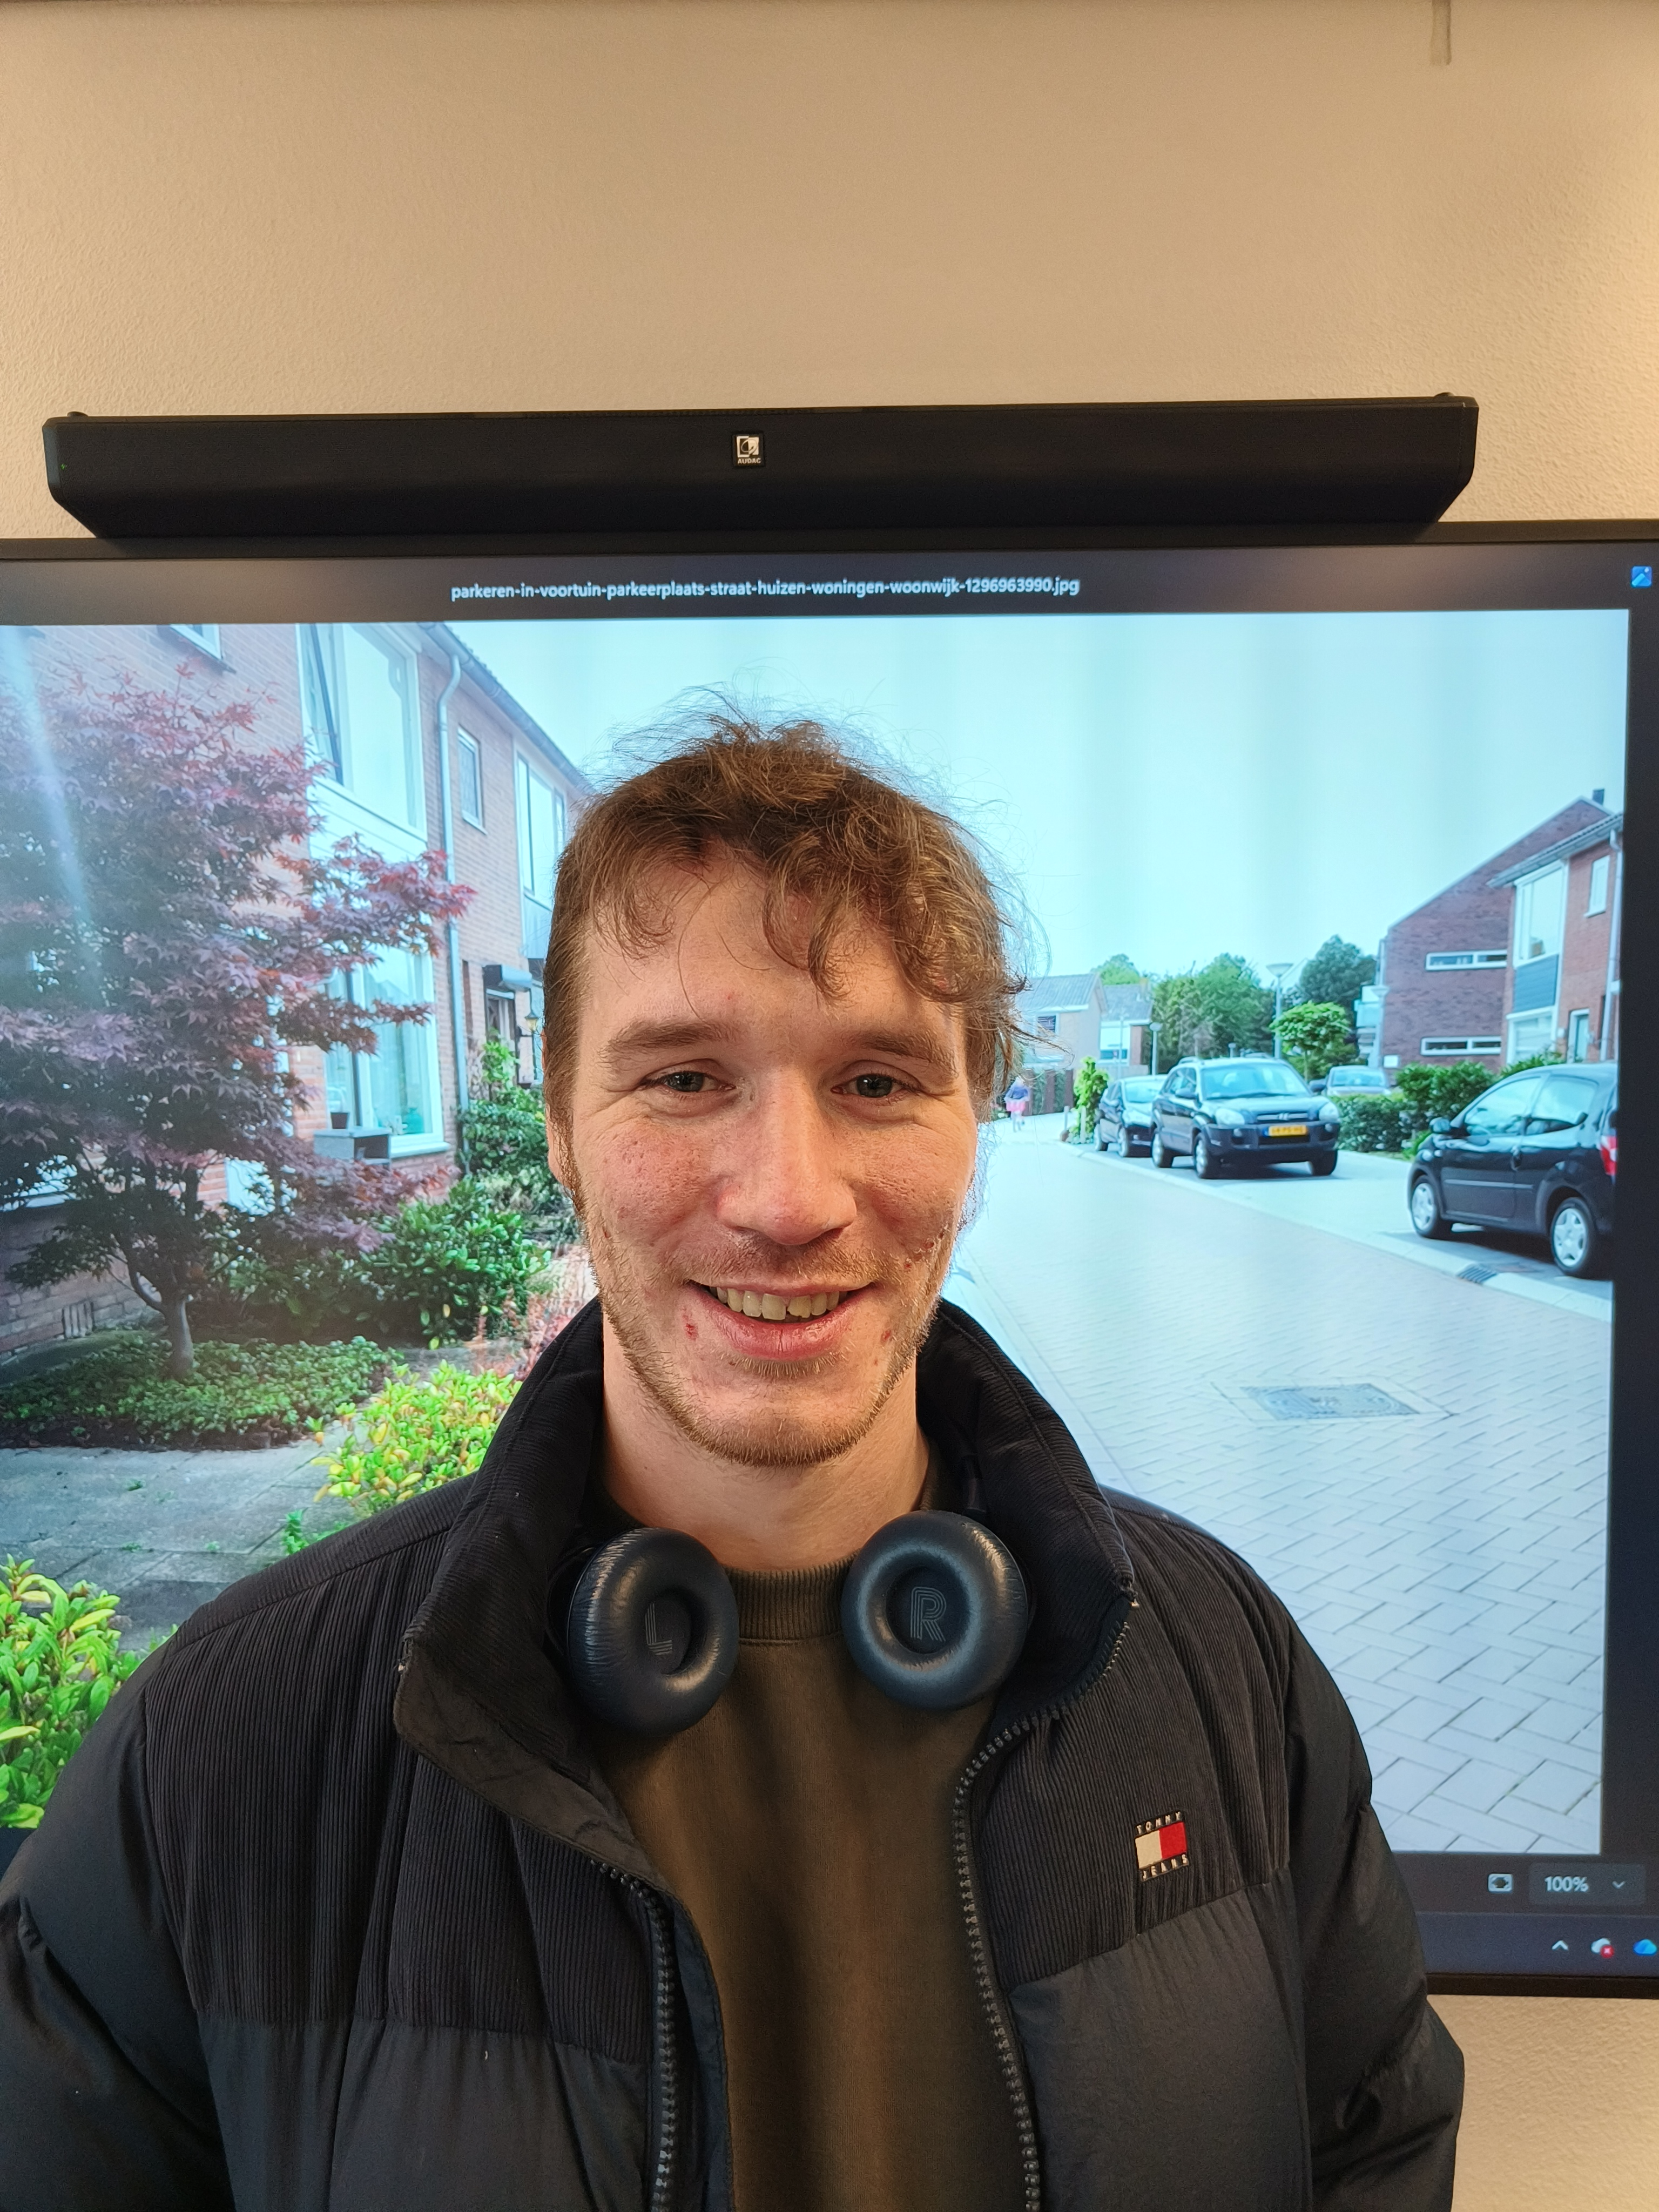face: (554, 734, 1003, 1469)
